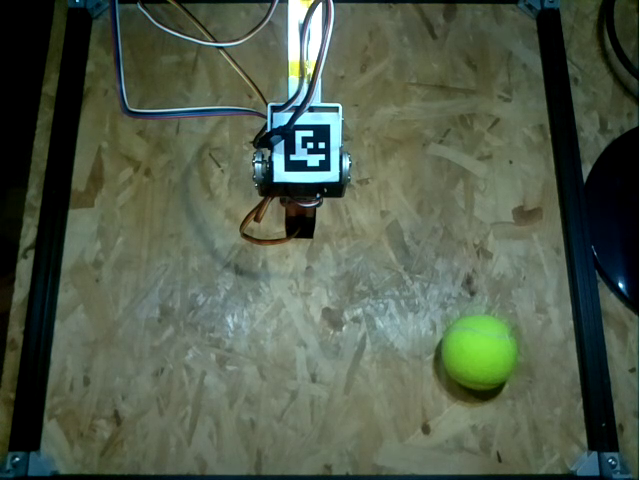tennis_ball: (440, 313, 519, 393)
